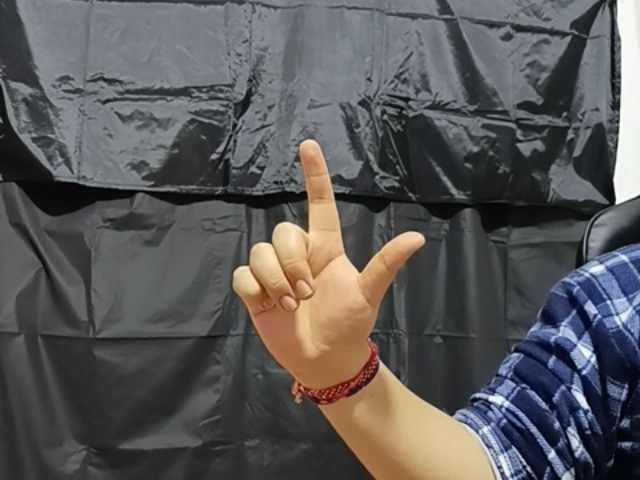L: (231, 140, 427, 366)
